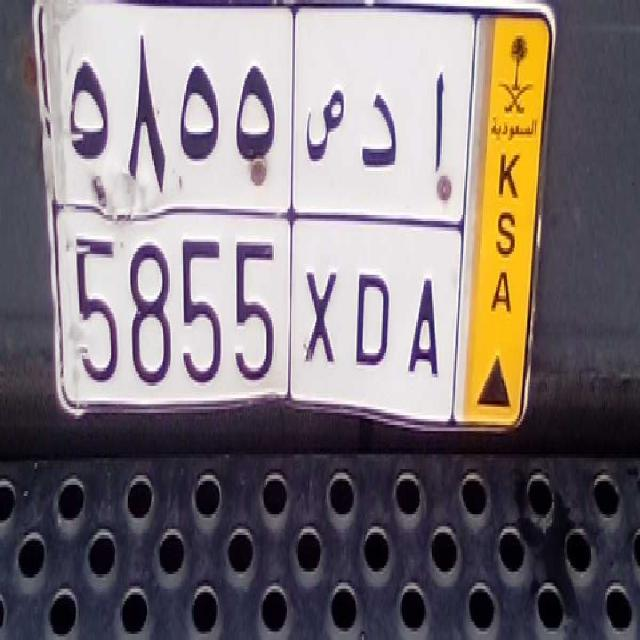license_plate: (49, 200, 458, 430)
